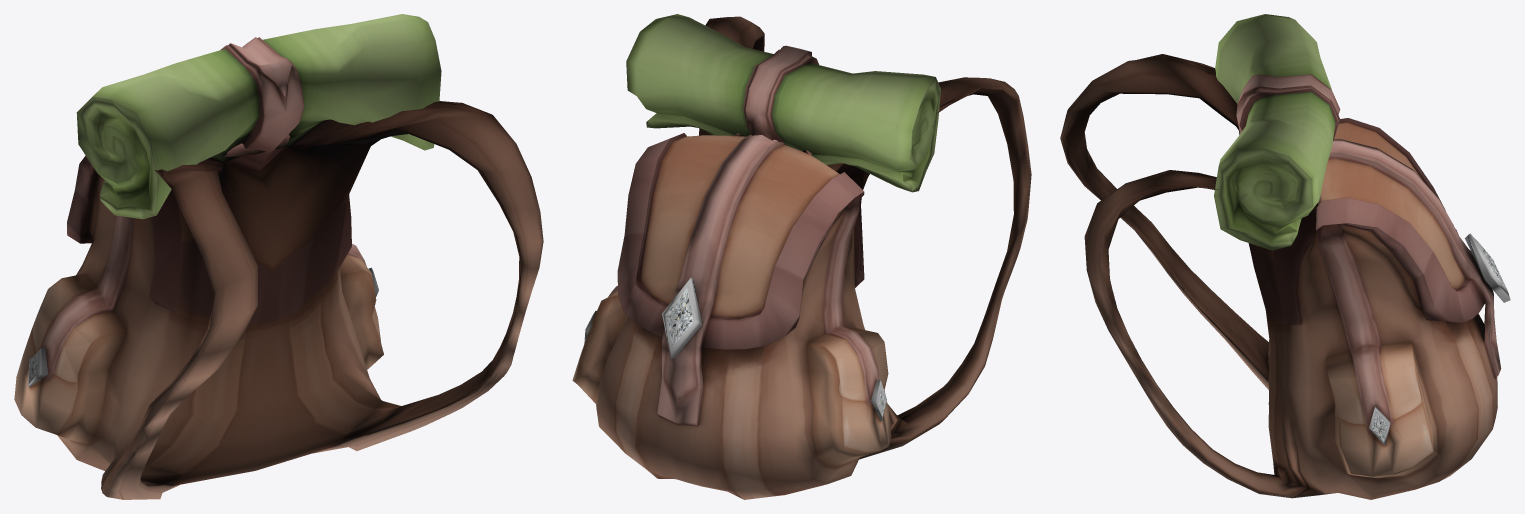
The model's file is new bag.fbx.
The picture shows the model from 3 angles, left to right: view 1: azimuth 30°, elevation 25°; view 2: azimuth 150°, elevation 25°; view 3: azimuth 270°, elevation 25°; orthographic projection. The views are drawn at different scales.
Visible parts, largest first — view 1: pasted__M_BackPack_LOD0; view 2: pasted__M_BackPack_LOD0; view 3: pasted__M_BackPack_LOD0.
Boxes of the visible parts, x1,y1,x2,y2 form: pasted__M_BackPack_LOD0: (14,14,543,499); pasted__M_BackPack_LOD0: (572,14,1031,499); pasted__M_BackPack_LOD0: (1060,14,1510,499).
Size of the model in its own units: 61.26 by 68 by 71.3.
1 material, 1 textured.
